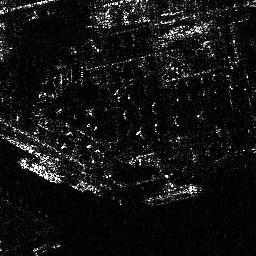ship: (141, 183, 204, 206), (18, 156, 64, 184)
